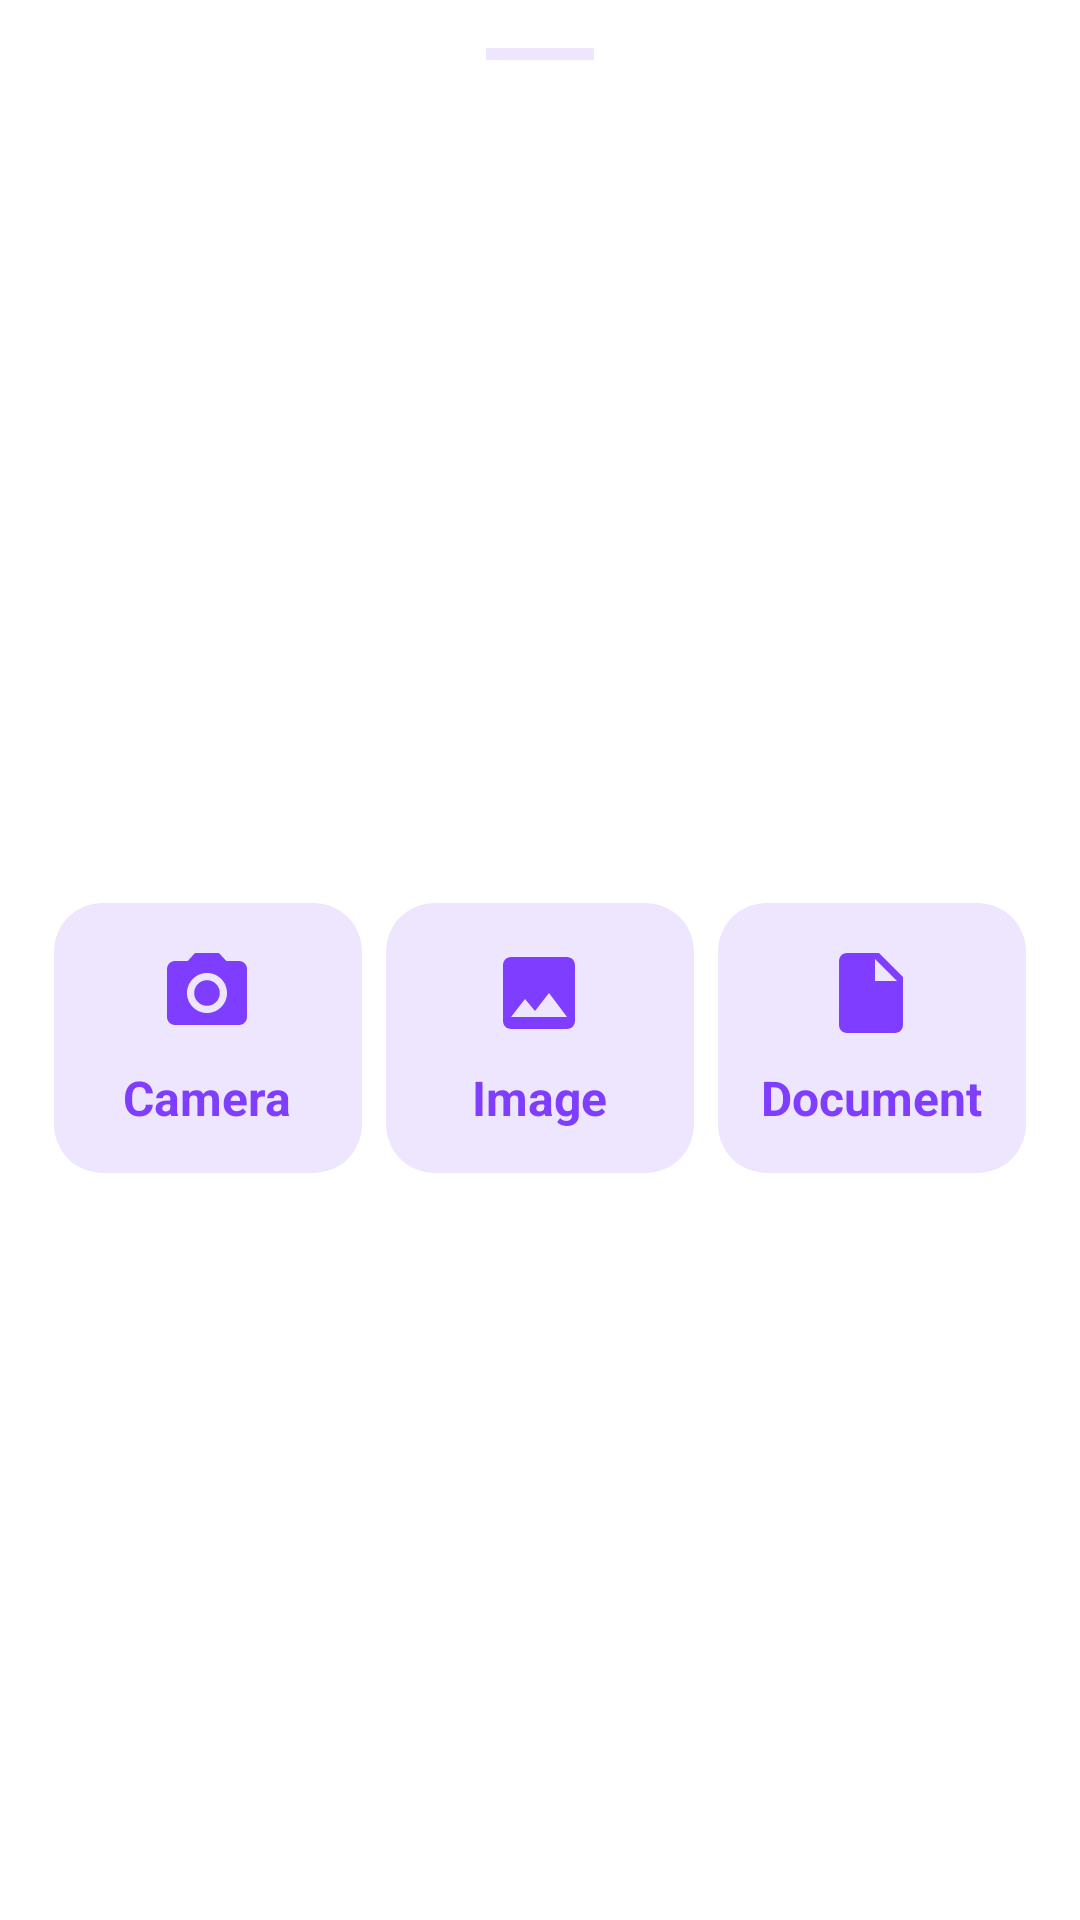

Icon bounding boxes for this 1080×1920 phone screenshot, format (x1, y1, x2, y2):
insert drive file: (839, 953, 903, 1033)
